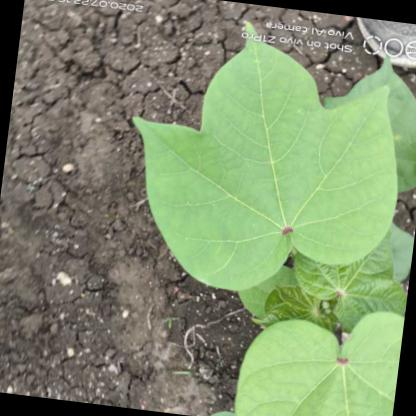cotton: (106, 9, 416, 312)
